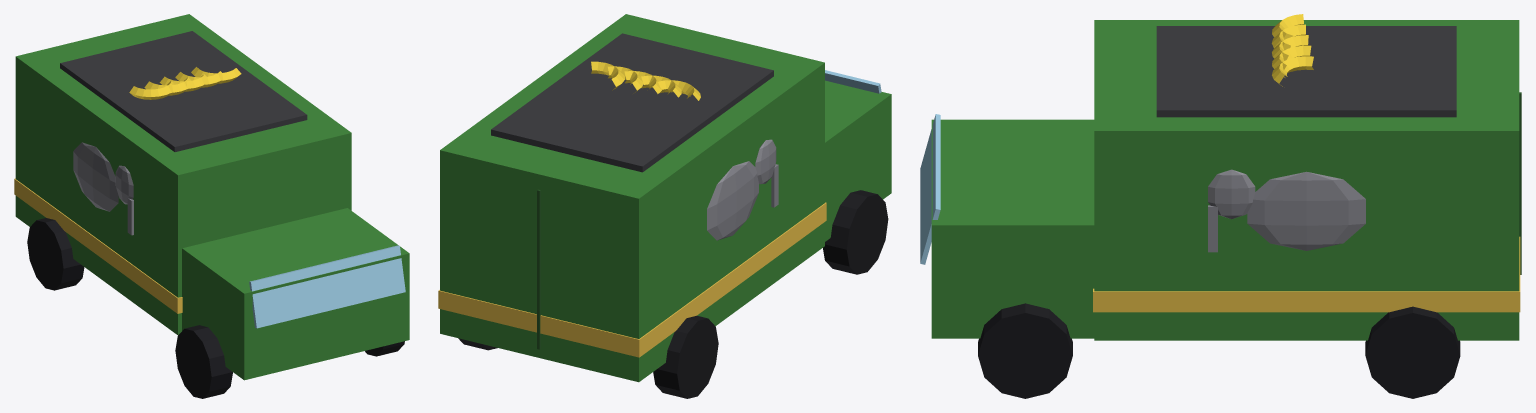
The model's file is zoo_van.glb.
3 renders of one model, left to right at view 1: azimuth 30°, elevation 25°; view 2: azimuth 150°, elevation 25°; view 3: azimuth 270°, elevation 25°, orthographic. The views are drawn at different scales.
Visible parts, largest first — view 1: body_zoo_van_green, rack_rack, glass_car_glass, wheels_tire (×2), logo_elephant_grey, stripe_zoo_van_yellow, bananas_banana; view 2: body_zoo_van_green, rack_rack, wheels_tire (×2), stripe_zoo_van_yellow, logo_elephant_grey, bananas_banana, doors_door_line, glass_car_glass; view 3: body_zoo_van_green, rack_rack, wheels_tire (×2), logo_elephant_grey, stripe_zoo_van_yellow, glass_car_glass, bananas_banana.
Part boxes in pixels (x1=…): body_zoo_van_green: x1=15, y1=14, x2=409, y2=380; rack_rack: x1=60, y1=31, x2=307, y2=151; glass_car_glass: x1=249, y1=245, x2=405, y2=328; wheels_tire (×2): x1=27, y1=218, x2=232, y2=398; logo_elephant_grey: x1=73, y1=142, x2=133, y2=235; stripe_zoo_van_yellow: x1=14, y1=178, x2=182, y2=313; bananas_banana: x1=129, y1=67, x2=241, y2=99; body_zoo_van_green: x1=440, y1=14, x2=891, y2=382; rack_rack: x1=491, y1=33, x2=773, y2=172; wheels_tire (×2): x1=653, y1=190, x2=888, y2=398; stripe_zoo_van_yellow: x1=438, y1=202, x2=826, y2=357; logo_elephant_grey: x1=707, y1=139, x2=778, y2=240; bananas_banana: x1=591, y1=61, x2=700, y2=100; doors_door_line: x1=537, y1=189, x2=540, y2=349; glass_car_glass: x1=825, y1=70, x2=881, y2=93; body_zoo_van_green: x1=931, y1=20, x2=1519, y2=340; rack_rack: x1=1156, y1=26, x2=1456, y2=117; wheels_tire (×2): x1=978, y1=303, x2=1460, y2=398; logo_elephant_grey: x1=1208, y1=169, x2=1365, y2=252; stripe_zoo_van_yellow: x1=1093, y1=236, x2=1520, y2=312; glass_car_glass: x1=920, y1=114, x2=940, y2=264; bananas_banana: x1=1271, y1=14, x2=1313, y2=86.
Bounding box in the file's own units: 2.36 × 2.56 × 4.81.
